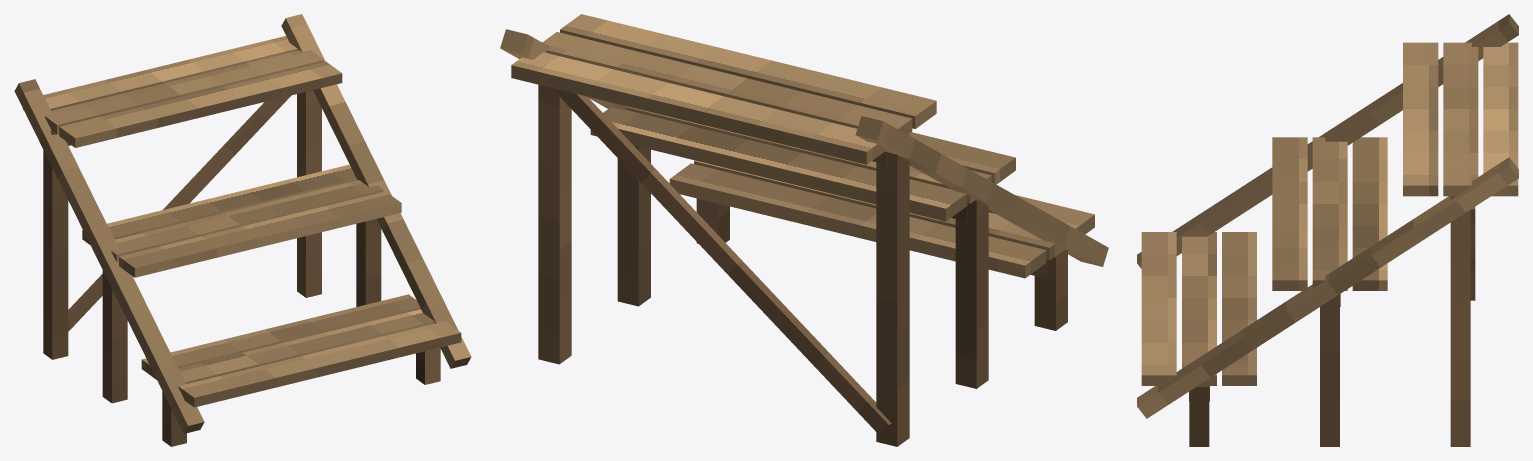
Rendered from step-rack.glb.
3 views of the same model, side by side, from view 1: azimuth 30°, elevation 25°; view 2: azimuth 150°, elevation 25°; view 3: azimuth 270°, elevation 25° (orthographic). The views are drawn at different scales.
Parts seen in each view (by area): view 1: step-rack/side-stringer--1, step-rack/side-stringer-1, step-rack/L3-broad-board-0, step-rack/L2-broad-board-0, step-rack/L1-broad-board-0, step-rack/L3-broad-board-1, step-rack/L2-broad-board-1, step-rack/L3-leg--1, step-rack/L1-broad-board-2, step-rack/L2-broad-board-2, step-rack/L1-broad-board-1, step-rack/L3-broad-board-2 (+6 smaller); view 2: step-rack/L3-broad-board-2, step-rack/L2-broad-board-2, step-rack/L1-broad-board-2, step-rack/rear-cross-brace, step-rack/L3-leg--1, step-rack/L3-leg-1, step-rack/L3-broad-board-0, step-rack/L3-broad-board-1, step-rack/side-stringer--1, step-rack/L2-leg--1, step-rack/L2-leg-1, step-rack/L1-broad-board-1 (+6 smaller); view 3: step-rack/side-stringer-1, step-rack/side-stringer--1, step-rack/L3-broad-board-0, step-rack/L2-broad-board-0, step-rack/L1-broad-board-0, step-rack/L3-broad-board-1, step-rack/L2-broad-board-1, step-rack/L3-leg-1, step-rack/L3-broad-board-2, step-rack/L2-broad-board-2, step-rack/L1-broad-board-2, step-rack/L1-broad-board-1 (+3 smaller).
Boxes of the visible parts, box(x1,y1,x2,y2) form: step-rack/side-stringer--1: box(14, 79, 204, 433); step-rack/side-stringer-1: box(281, 14, 471, 368); step-rack/L3-broad-board-0: box(59, 61, 342, 147); step-rack/L2-broad-board-0: box(119, 191, 401, 277); step-rack/L1-broad-board-0: box(178, 321, 461, 407); step-rack/L3-broad-board-1: box(44, 50, 323, 134); step-rack/L2-broad-board-1: box(111, 180, 383, 261); step-rack/L3-leg--1: box(43, 130, 68, 359); step-rack/L1-broad-board-2: box(141, 294, 420, 379); step-rack/L2-broad-board-2: box(82, 164, 357, 244); step-rack/L1-broad-board-1: box(178, 309, 434, 384); step-rack/L3-broad-board-2: box(23, 36, 297, 110); step-rack/L3-broad-board-2: box(511, 52, 887, 164); step-rack/L2-broad-board-2: box(590, 107, 967, 221); step-rack/L1-broad-board-2: box(669, 163, 1046, 278); step-rack/rear-cross-brace: box(552, 88, 891, 435); step-rack/L3-leg--1: box(876, 135, 909, 446); step-rack/L3-leg-1: box(538, 84, 571, 364); step-rack/L3-broad-board-0: box(560, 14, 936, 128); step-rack/L3-broad-board-1: box(542, 32, 912, 134); step-rack/side-stringer--1: box(855, 116, 1108, 266); step-rack/L2-leg--1: box(955, 199, 988, 388); step-rack/L2-leg-1: box(617, 145, 650, 306); step-rack/L1-broad-board-1: box(694, 160, 1064, 260); step-rack/side-stringer-1: box(1137, 157, 1518, 418); step-rack/side-stringer--1: box(1137, 14, 1518, 268); step-rack/L3-broad-board-0: box(1403, 42, 1438, 196); step-rack/L2-broad-board-0: box(1272, 137, 1307, 290); step-rack/L1-broad-board-0: box(1141, 232, 1176, 385); step-rack/L3-broad-board-1: box(1443, 42, 1478, 196); step-rack/L2-broad-board-1: box(1312, 137, 1347, 290); step-rack/L3-leg-1: box(1450, 196, 1470, 446); step-rack/L3-broad-board-2: box(1483, 42, 1518, 196); step-rack/L2-broad-board-2: box(1352, 137, 1387, 290); step-rack/L1-broad-board-2: box(1222, 232, 1256, 385); step-rack/L1-broad-board-1: box(1182, 232, 1216, 385).
Size of the model in its own units: 0.86 by 0.7513 by 0.9132.
Materials: 3 (3 with a texture image).
